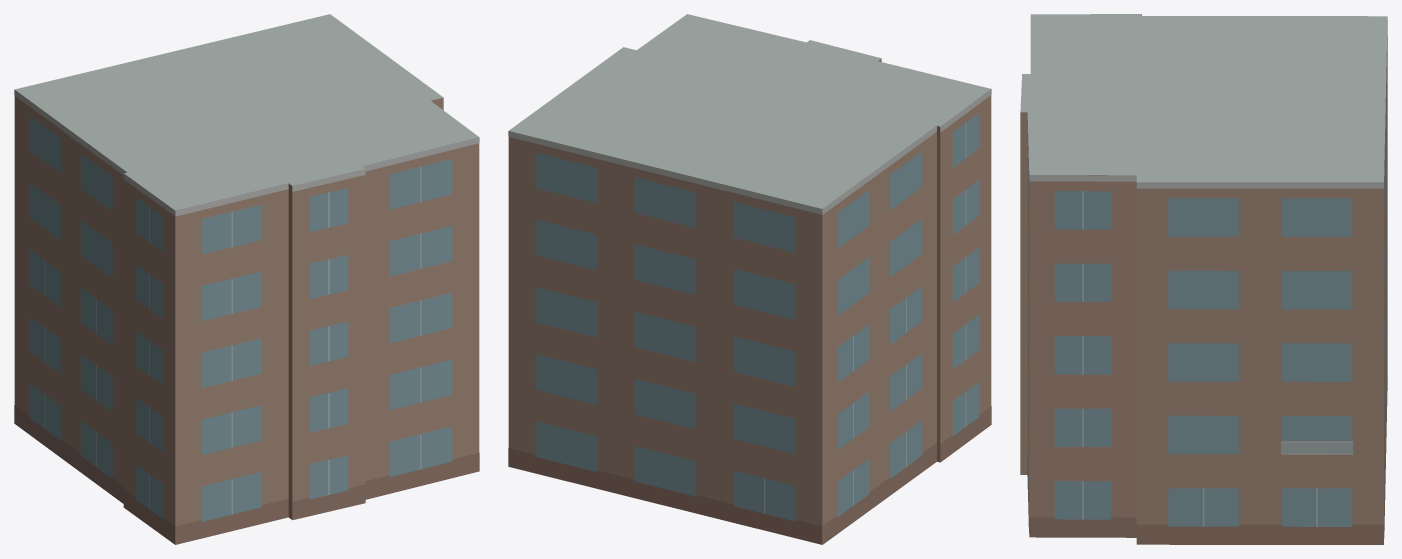
The model's file is survey-upis-33044711.glb.
The picture shows the model from 3 angles, left to right: view 1: azimuth 30°, elevation 25°; view 2: azimuth 150°, elevation 25°; view 3: azimuth 270°, elevation 25°; orthographic projection. The views are drawn at different scales.
Parts seen in each view (by area): view 1: survey-upis-33044711.tmp; view 2: survey-upis-33044711.tmp; view 3: survey-upis-33044711.tmp.
Boxes of the visible parts, x1,y1,x2,y2 form: survey-upis-33044711.tmp: [14, 14, 479, 544]; survey-upis-33044711.tmp: [508, 14, 991, 544]; survey-upis-33044711.tmp: [1020, 14, 1387, 544].
Size of the model in its own units: 13.79 by 13.8 by 12.68.
